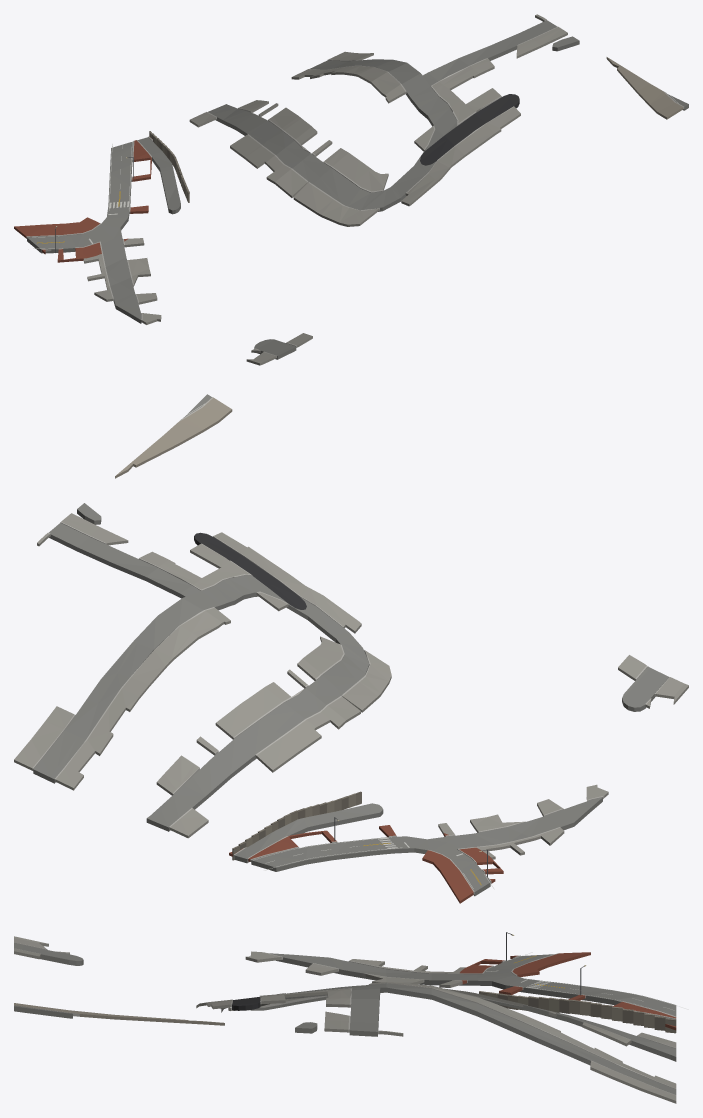
3 views of the same model, one above another, from view 1: azimuth 30°, elevation 25°; view 2: azimuth 150°, elevation 25°; view 3: azimuth 270°, elevation 25° (orthographic). The views are drawn at different scales.
Size of the model in its own units: 149 by 58.2 by 149.
